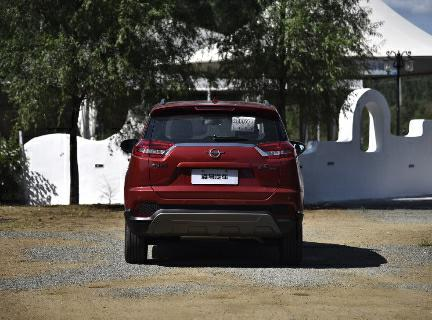海马-S5青春版: (121, 100, 308, 267)
